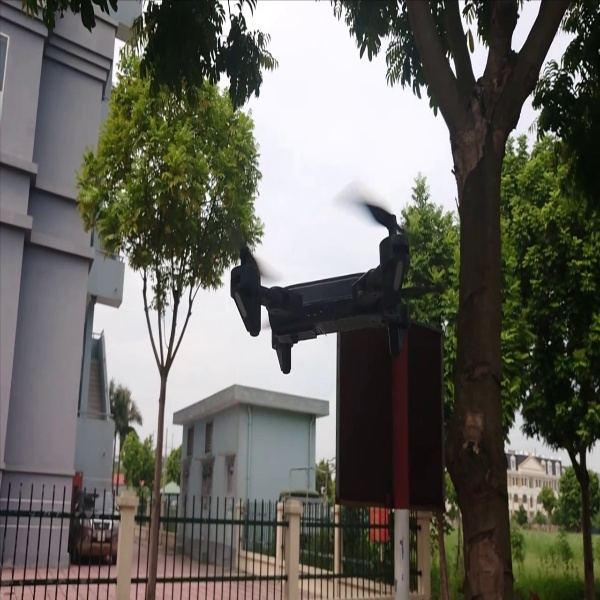drone: (218, 197, 421, 376)
